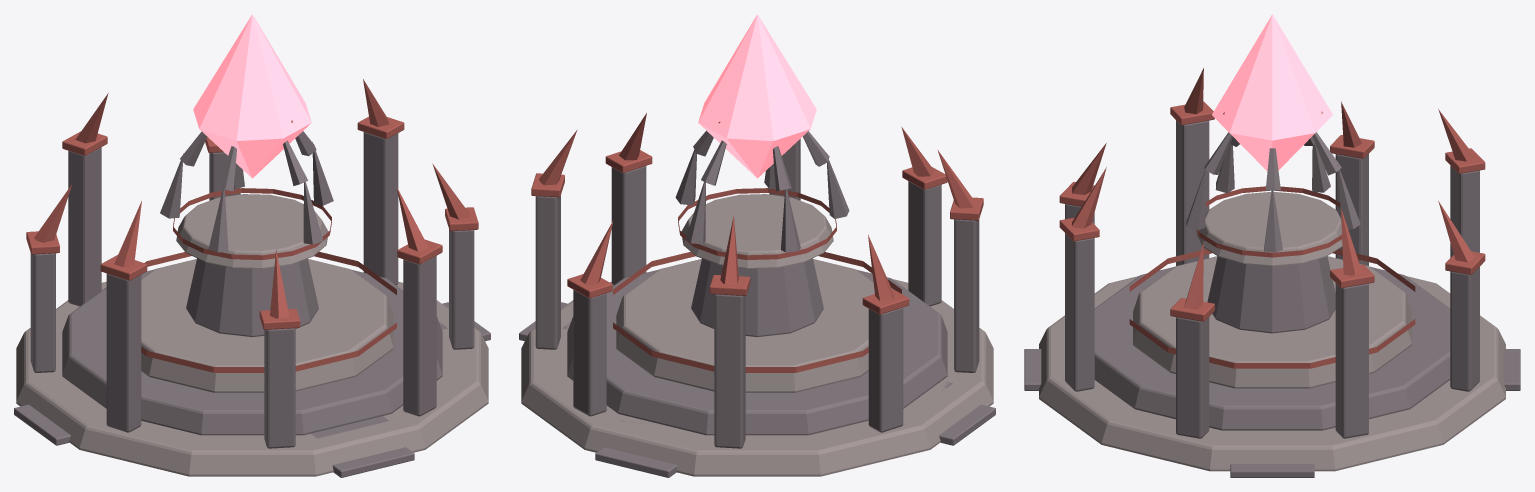
Rendered from ancient_dusk.glb.
3 views of the same model, side by side, from view 1: azimuth 30°, elevation 25°; view 2: azimuth 150°, elevation 25°; view 3: azimuth 270°, elevation 25° (orthographic).
Parts seen in each view (by area): view 1: tier1, tier3, tier2, heart, bowl, pedestal, mono4, mono6, mono0, mono2, mono5, mono7 (+27 smaller); view 2: tier1, tier3, tier2, heart, bowl, pedestal, mono2, mono3, mono1, mono0, mono4, mono5 (+26 smaller); view 3: tier1, tier2, tier3, heart, pedestal, bowl, mono0, mono6, mono7, mono4, mono1, trimring (+25 smaller).
Boxes of the visible parts, <box> form: tier1: <box>16,281,488,476</box>; tier3: <box>141,259,393,392</box>; tier2: <box>62,269,442,435</box>; heart: <box>193,14,311,178</box>; bowl: <box>176,194,328,268</box>; pedestal: <box>186,258,318,336</box>; mono4: <box>106,273,141,432</box>; mono6: <box>403,256,436,416</box>; mono0: <box>363,132,398,285</box>; mono2: <box>68,147,101,306</box>; mono5: <box>264,328,295,448</box>; mono7: <box>449,229,474,349</box>; tier1: <box>521,279,993,476</box>; tier3: <box>616,259,874,392</box>; tier2: <box>567,269,947,435</box>; heart: <box>698,14,816,178</box>; bowl: <box>681,194,833,268</box>; pedestal: <box>691,258,823,336</box>; mono2: <box>714,294,745,448</box>; mono3: <box>868,307,903,432</box>; mono1: <box>573,290,606,416</box>; mono0: <box>535,195,560,349</box>; mono4: <box>954,219,979,372</box>; mono5: <box>908,181,941,306</box>; tier1: <box>1039,276,1505,471</box>; tier2: <box>1094,266,1450,430</box>; tier3: <box>1133,256,1411,388</box>; heart: <box>1212,14,1332,171</box>; pedestal: <box>1207,256,1335,333</box>; bowl: <box>1196,192,1342,266</box>; mono0: <box>1335,283,1368,438</box>; mono6: <box>1065,233,1094,391</box>; mono7: <box>1176,317,1209,438</box>; mono4: <box>1176,120,1209,265</box>; mono1: <box>1450,267,1479,391</box>; trimring: <box>1129,249,1415,368</box>.
Size of the model in its own units: 9.4 by 7.51 by 9.4.
